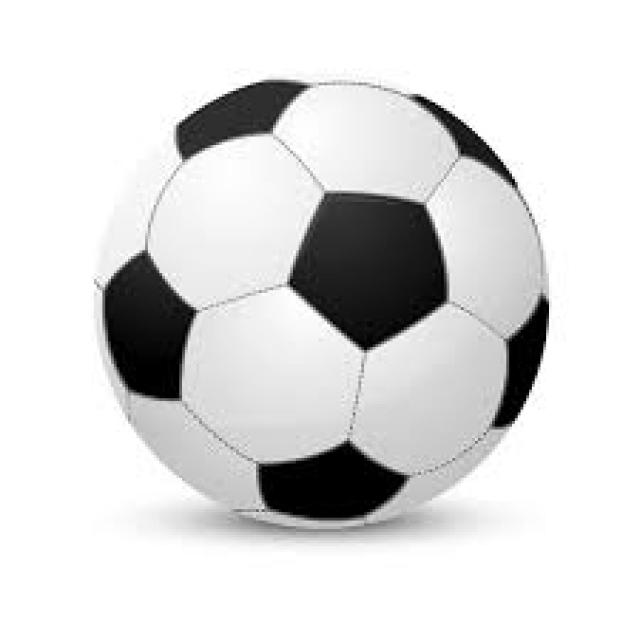ball: (102, 78, 550, 532)
